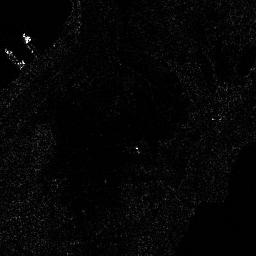ship: (21, 31, 45, 57), (3, 48, 26, 70)
